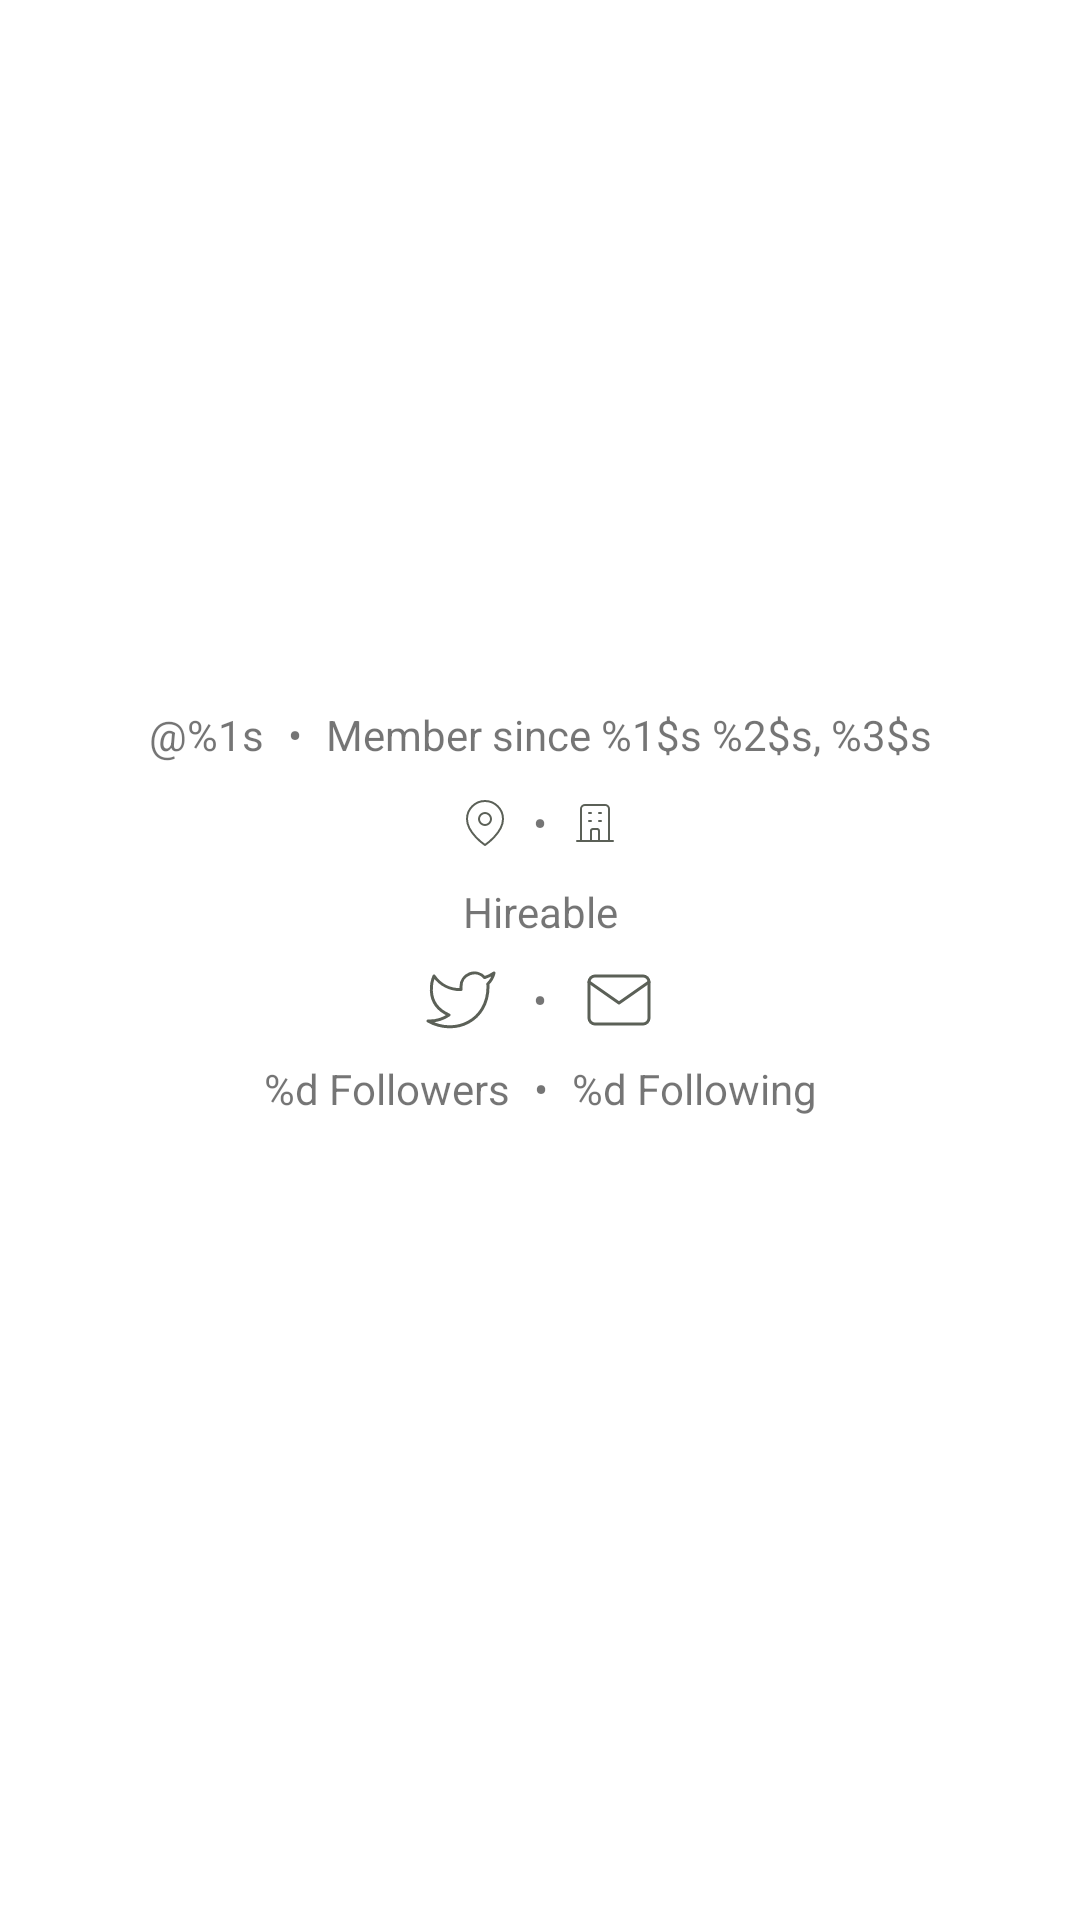

Where to tap for icons on this 1080px x 1920px app screen, as point (x, y):
company: point (595, 823)
location: point (485, 823)
mail: point (619, 1000)
